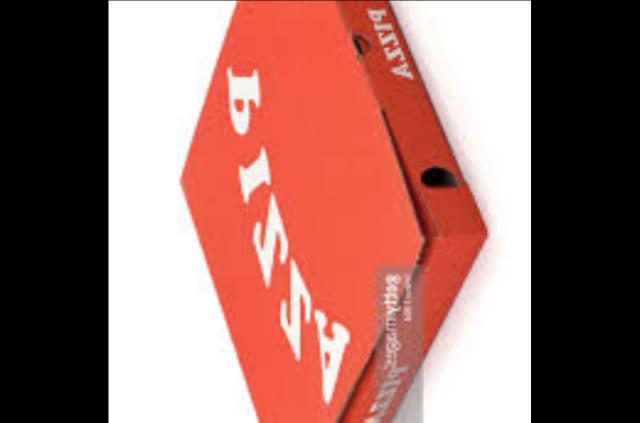cardboard paper: (177, 0, 480, 423)
